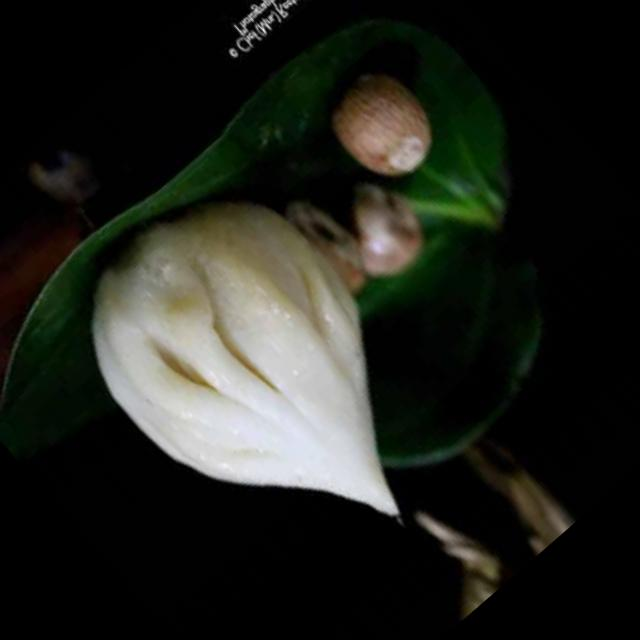modak: (88, 199, 374, 494)
